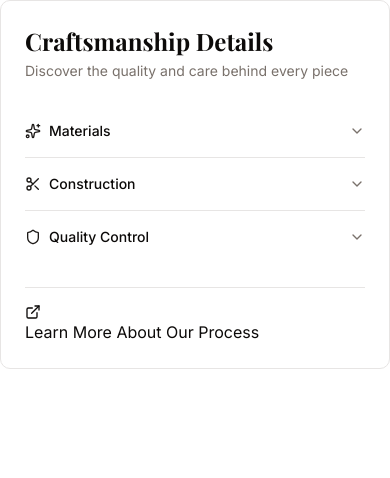
Test case: CraftsmanshipSection › Full craftsmanship data › renders Quality tab with checkpoints list
Click the button "Quality Control".
click(99, 236)  # box [25, 211, 365, 263]
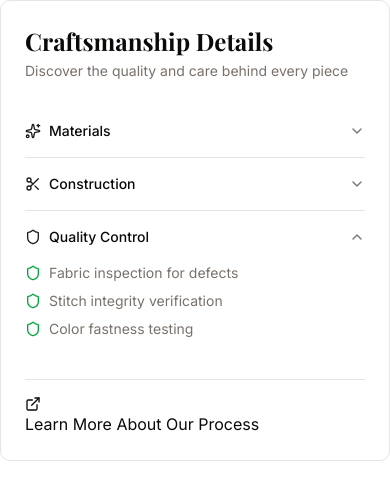
Check: the list item "Fabric inspection for defects" is shown, box [25, 264, 238, 281]
Check: the list item "Stitch integrity verification" is shown, box [25, 292, 223, 309]
Check: the list item "Color fastness testing" is shown, box [25, 320, 193, 337]
